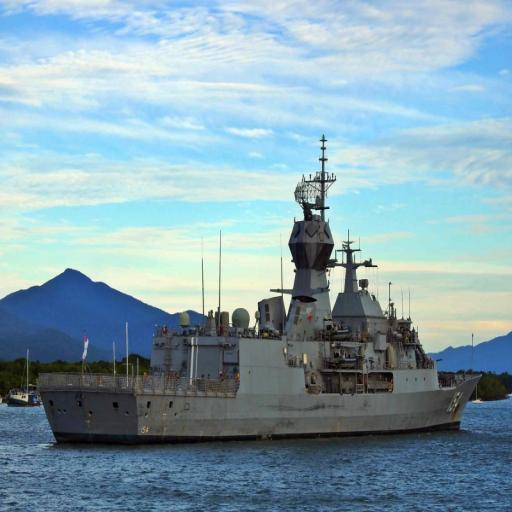Fragata: (39, 120, 487, 449)
